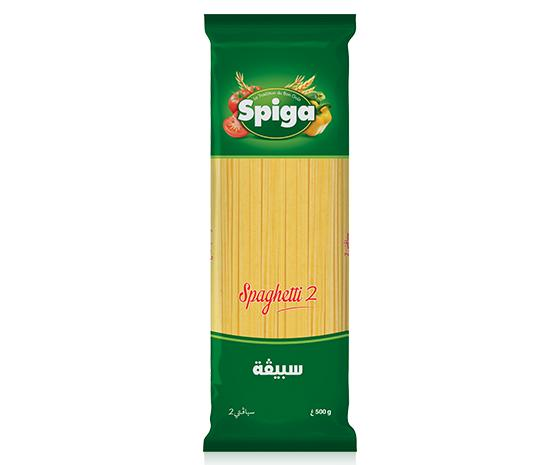Spaghetti: (211, 17, 351, 445)
